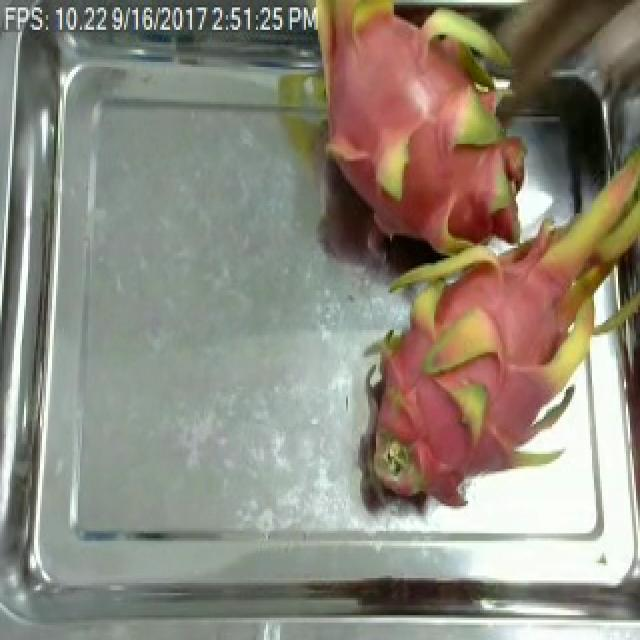Fruit: (382, 109, 546, 278)
